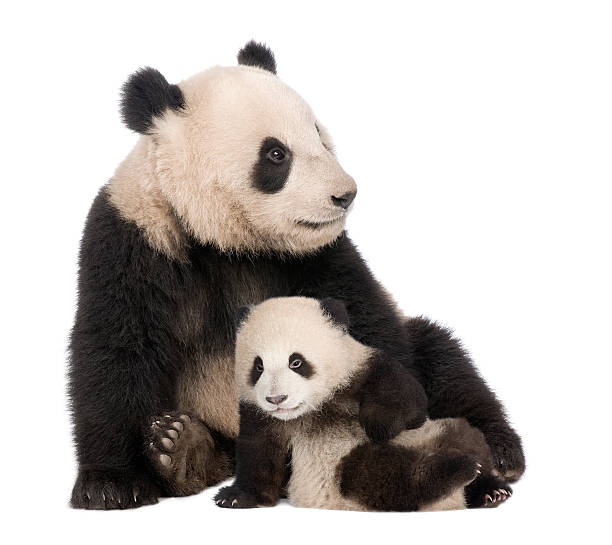panda: (96, 34, 383, 266), (213, 293, 372, 426)
